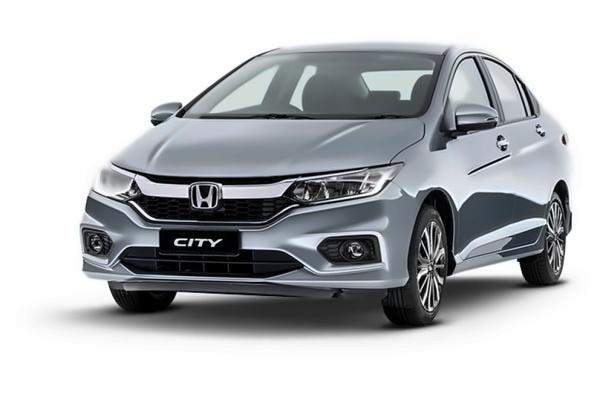Car hood: (107, 113, 427, 182)
Fender - -F-L-: (387, 114, 463, 282)
Front bumper: (78, 182, 419, 294)
Headlight - -L-: (282, 161, 406, 205)
Headlight - -R-: (88, 160, 141, 206)
Passenger-s door - -F-L-: (439, 38, 515, 275)
Passenger-s door - -R-L-: (478, 43, 554, 269)
Side bumper - -L-: (447, 223, 552, 283)
Side mirror - -L-: (443, 102, 498, 139)
Side mirror - -R-: (148, 101, 184, 129)
